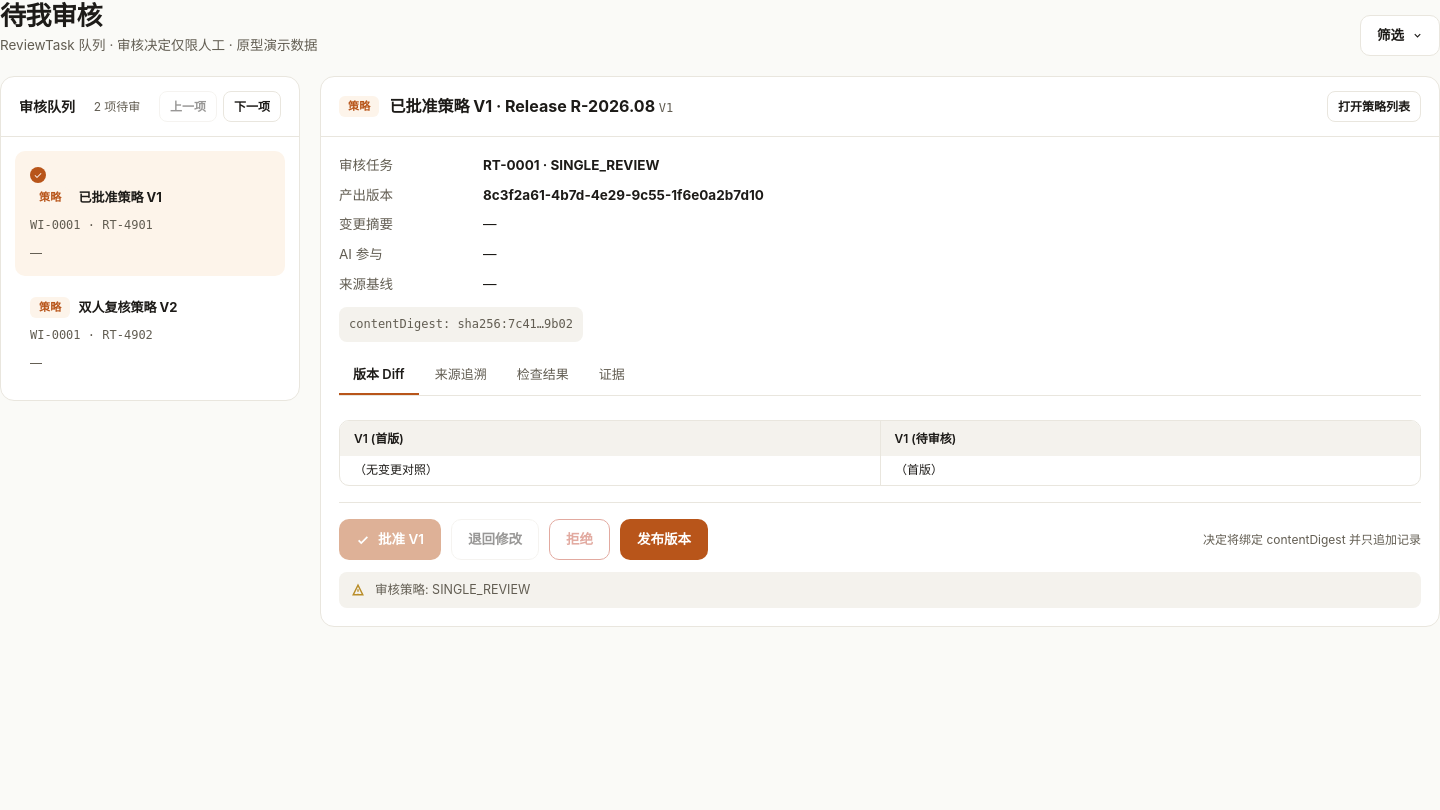
ReviewsPage（WP-05 发布链与双人复核） › 已批准任务走发布确认弹层并展示 PUBLISHED 结果
The image size is (1440, 810).
Expected: the text "已批准策略 V1" is shown, [78,187,162,208]
Click the button "发布版本" at (664, 540), box [620,519,708,560]
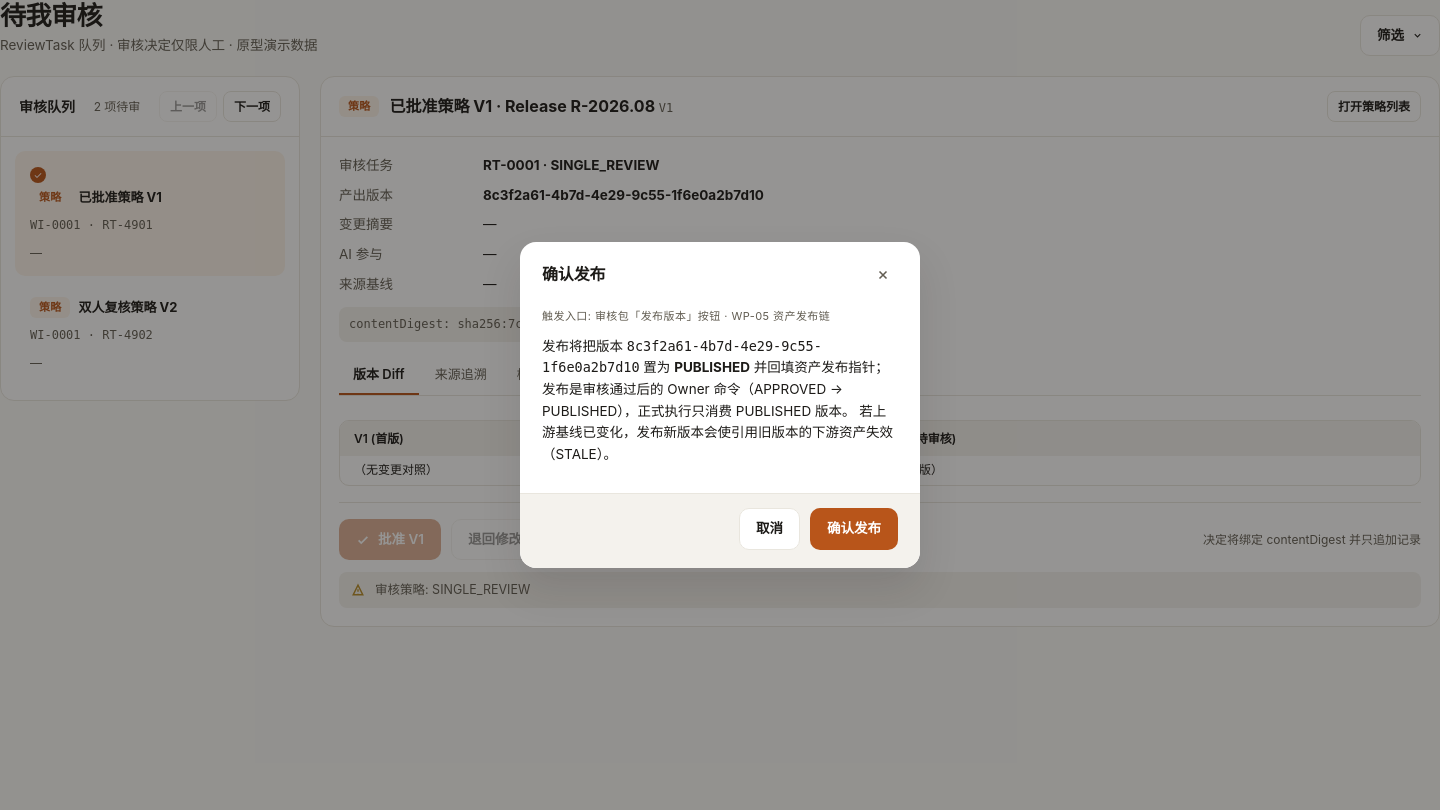
Expected: the heading "确认发布" is shown, [542,262,605,288]
Click the button "确认发布" at (854, 529), box [810,508,898,550]
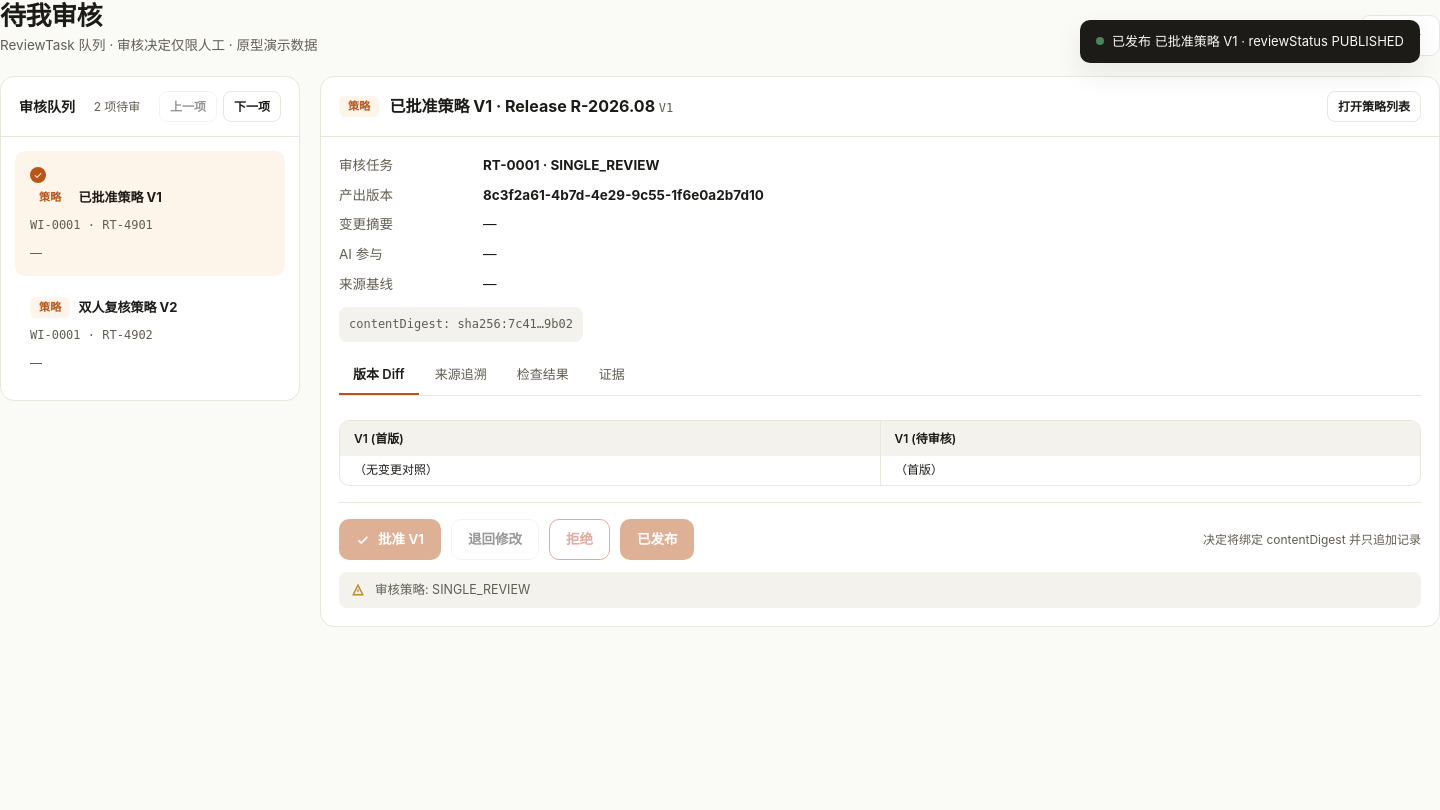
Expected: the text "已发布 已批准策略 V1 · reviewStatus PUBLISHED" is shown, [1080,20,1420,63]
Expected: the button "已发布" is disabled, [620,519,694,560]
